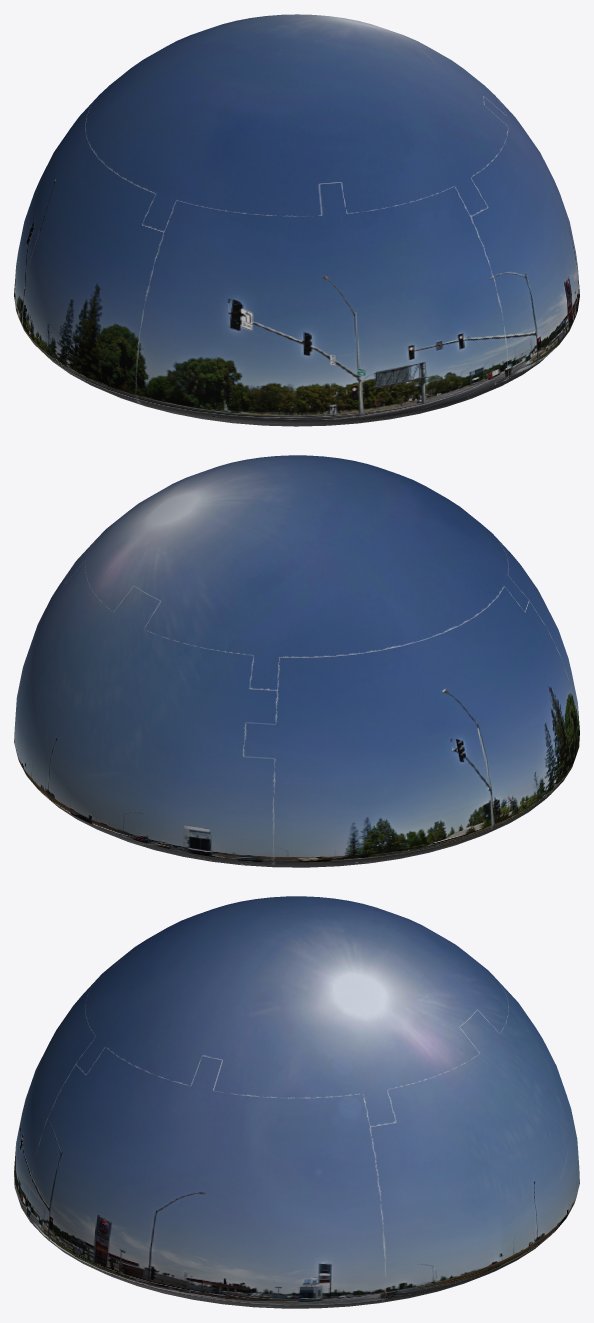
Rendered from sport-sphere30.gltf.
3 renders of one model, top to bottom at view 1: azimuth 30°, elevation 25°; view 2: azimuth 150°, elevation 25°; view 3: azimuth 270°, elevation 25°, orthographic.
Parts seen in each view (by area): view 1: Sphere.8; view 2: Sphere.8; view 3: Sphere.8.
Part boxes in pixels (x1,y1,x2,y2): Sphere.8: [14, 14, 579, 426]; Sphere.8: [14, 455, 579, 867]; Sphere.8: [14, 896, 579, 1308].
Size of the model in its own units: 11.4 by 6.86 by 11.4.
1 material, 1 textured.
